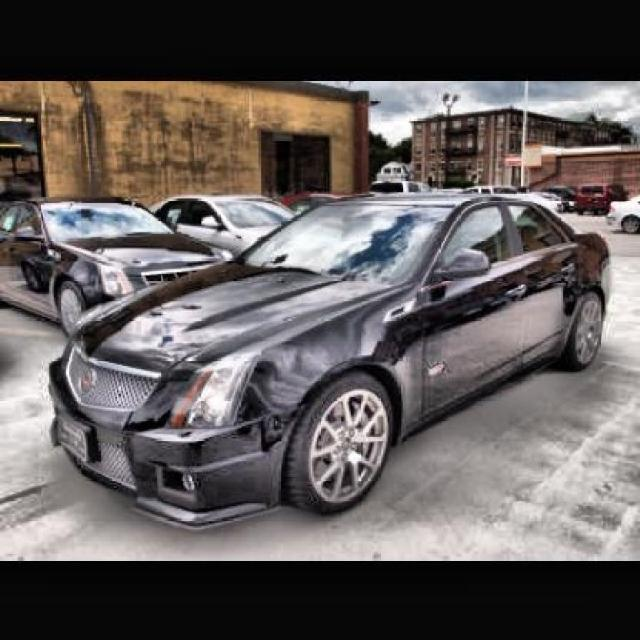black: (71, 188, 612, 529)
